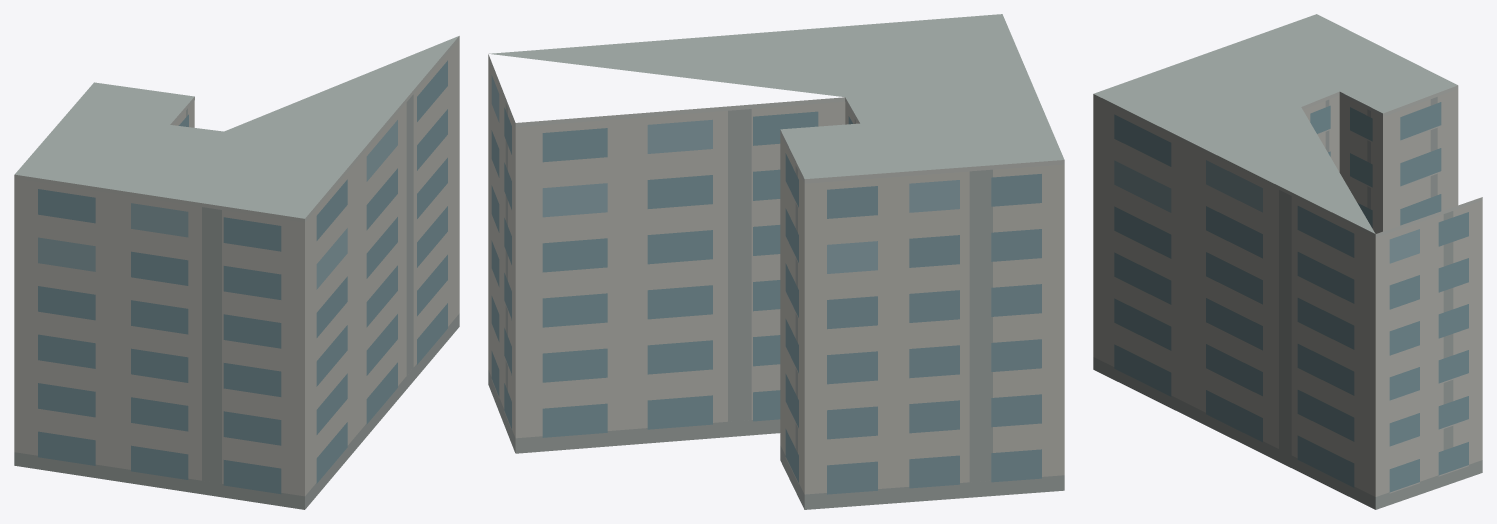
The model's file is survey-upis-33030821.glb.
3 views of the same model, side by side, from view 1: azimuth 30°, elevation 25°; view 2: azimuth 150°, elevation 25°; view 3: azimuth 270°, elevation 25° (orthographic). The views are drawn at different scales.
Parts seen in each view (by area): view 1: survey-upis-33030821.tmp; view 2: survey-upis-33030821.tmp; view 3: survey-upis-33030821.tmp.
Part boxes in pixels (x1,y1,x2,y2): survey-upis-33030821.tmp: [14, 36, 459, 509]; survey-upis-33030821.tmp: [488, 14, 1064, 509]; survey-upis-33030821.tmp: [1093, 14, 1482, 509].
Bounding box in the file's own units: 31.33 × 18.3 × 23.41.
